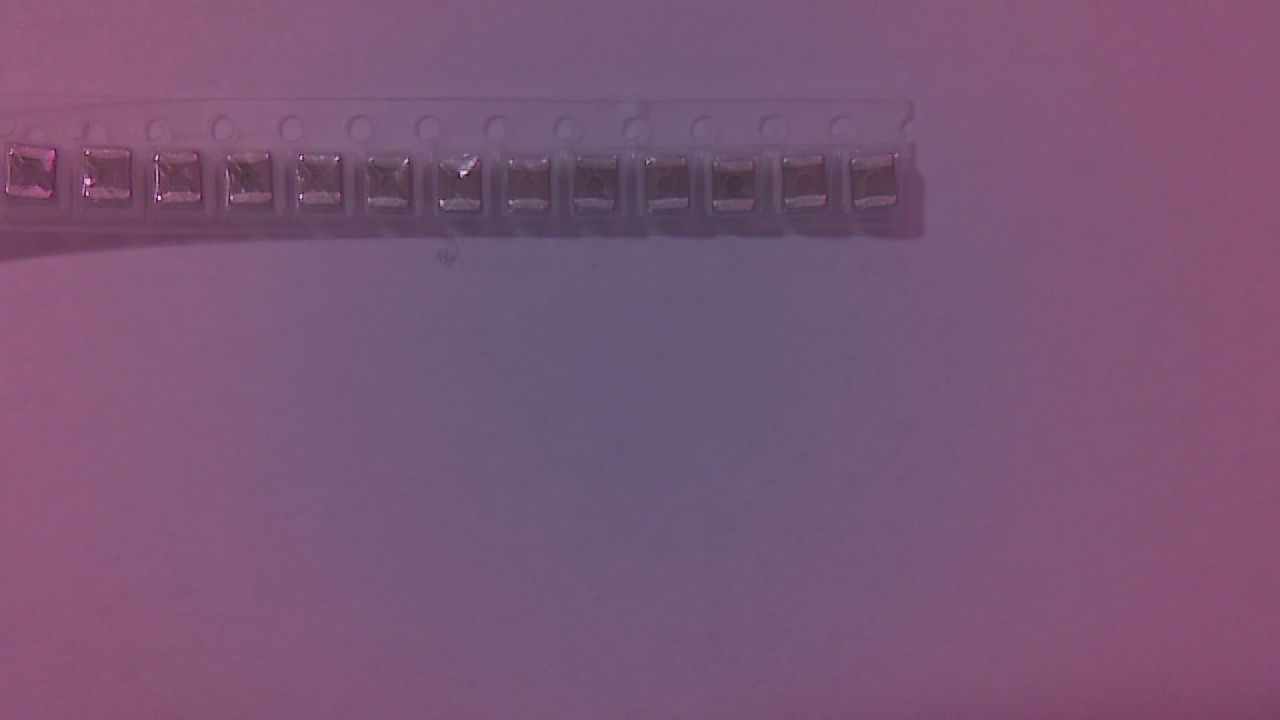Condensator: (157, 151, 211, 212), (9, 147, 62, 208), (855, 154, 904, 215), (647, 159, 696, 219), (229, 154, 276, 215), (511, 158, 558, 217), (444, 161, 490, 221), (715, 161, 762, 219), (576, 158, 621, 218), (91, 151, 138, 208), (303, 156, 346, 218), (785, 156, 830, 215), (371, 159, 415, 217)
